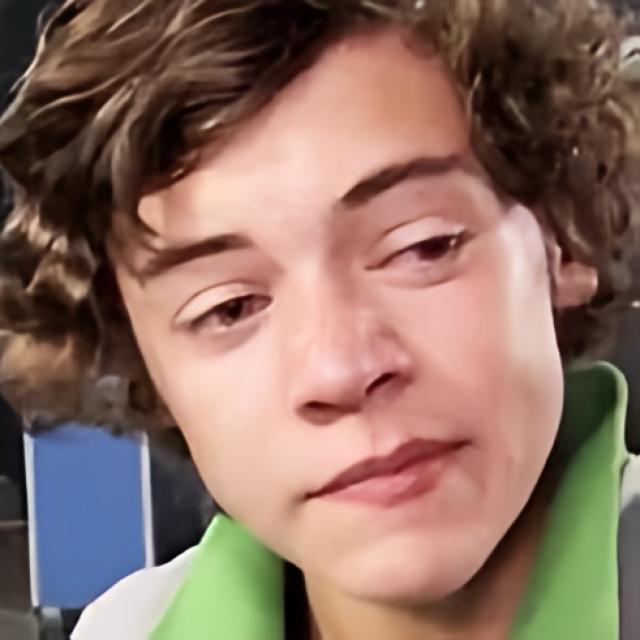sad: (123, 30, 560, 588)
